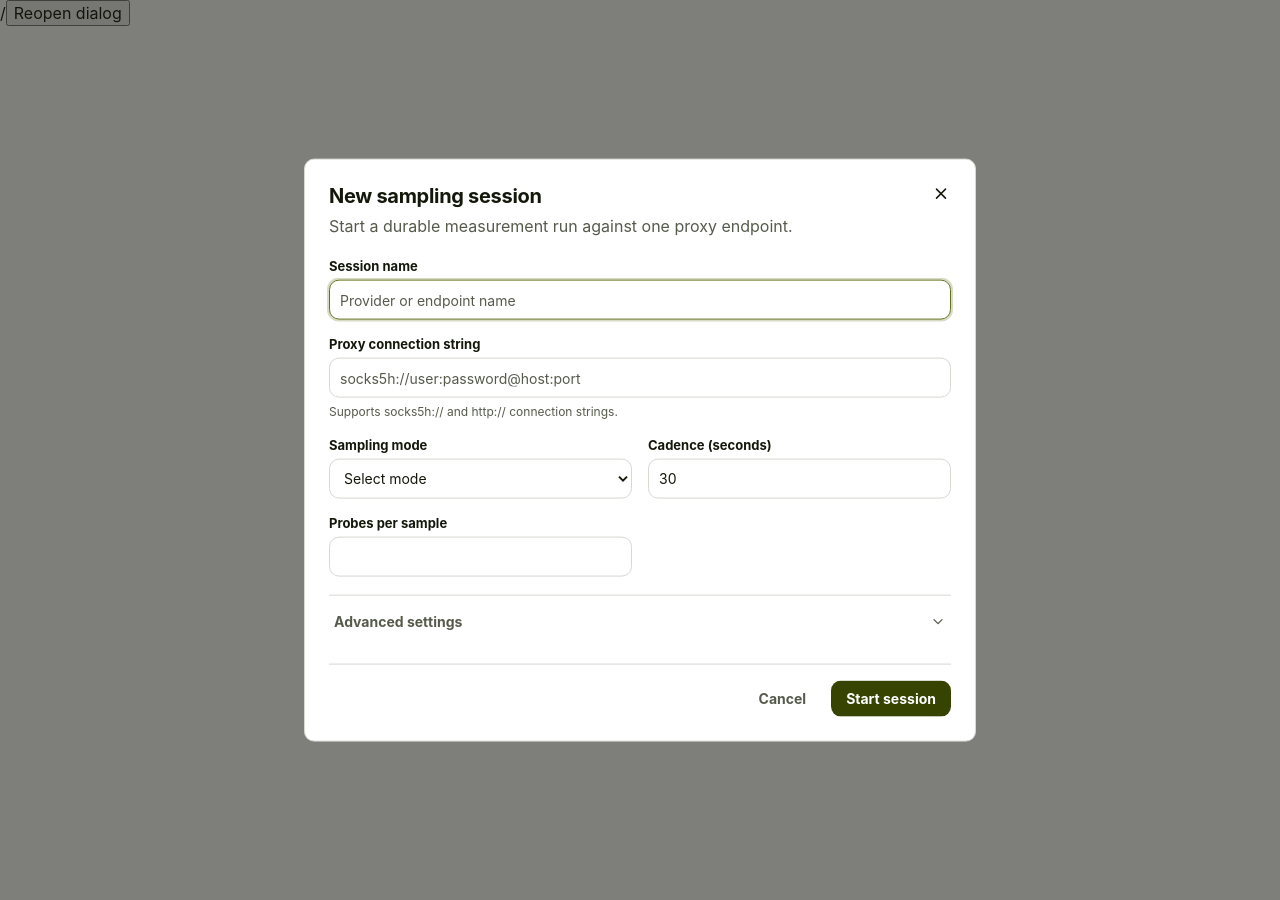
Test: NewSessionDialog › keeps server validation in the dialog without retaining or echoing the secret
In the field labelled "Session name": coordinates (640, 300) left=329, top=280, right=951, bottom=320, type "Provider evaluation"
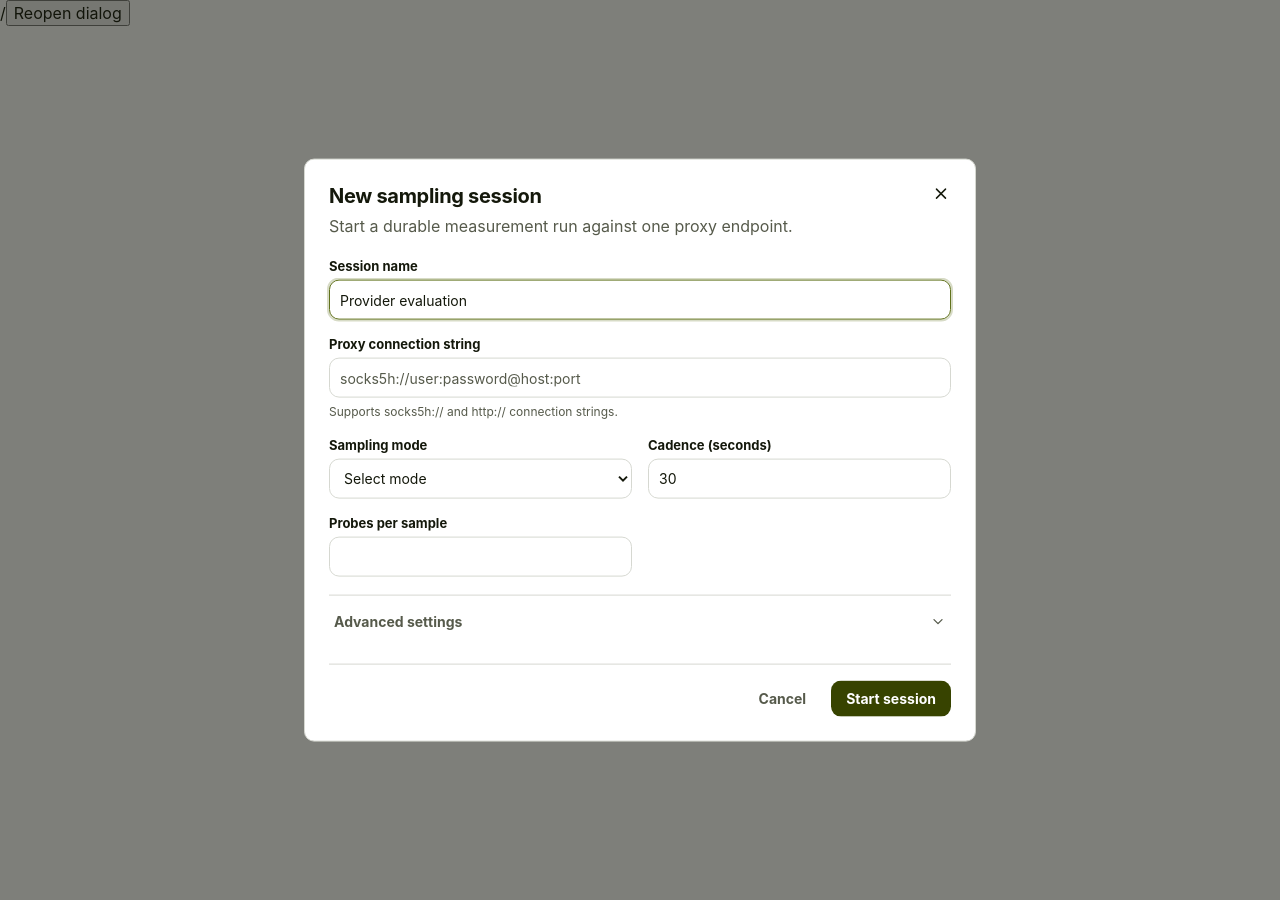
In the password field labelled "Proxy connection string": coordinates (640, 378) left=329, top=358, right=951, bottom=398, type "http://operator:hidden-password@proxy.example:8080"
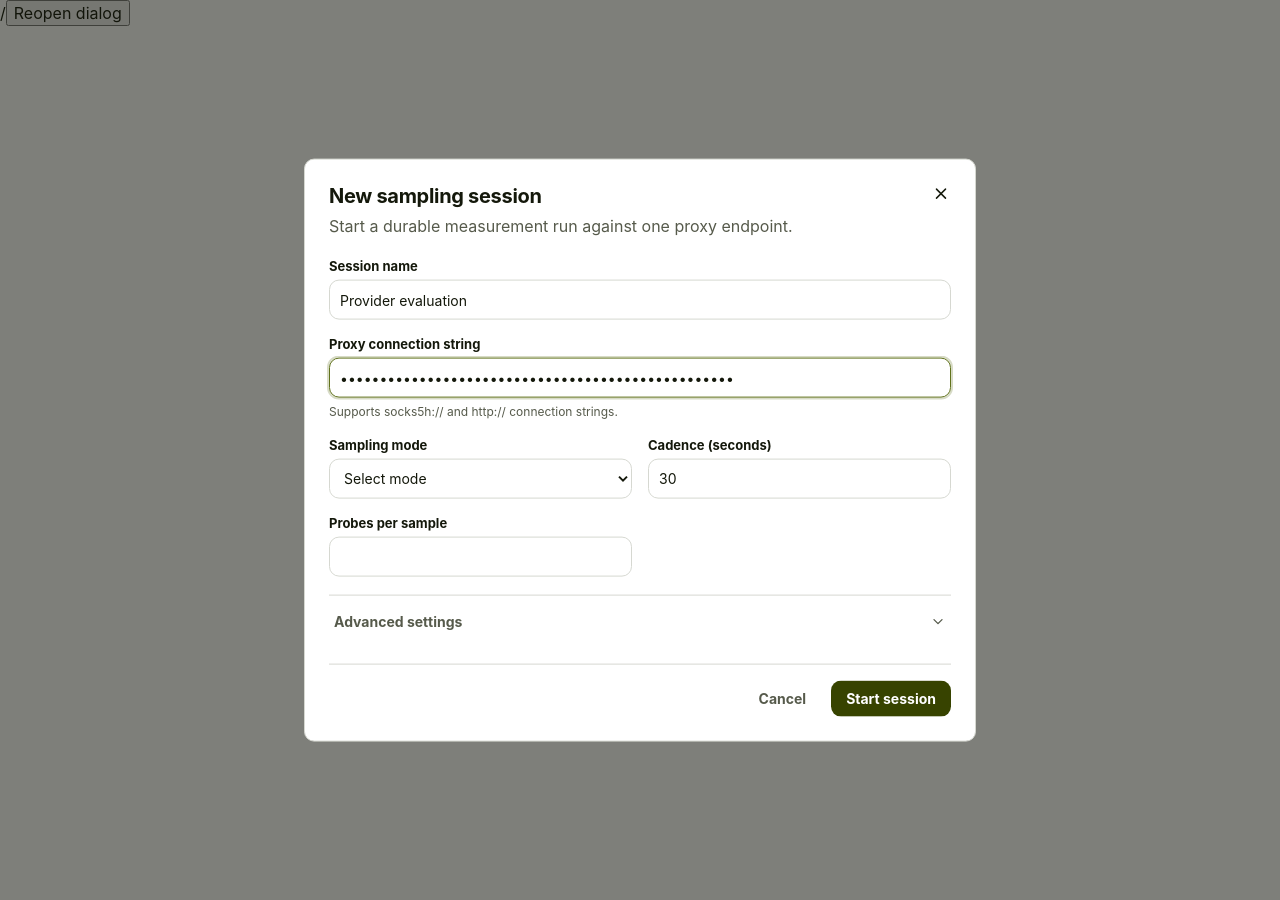
Select "Sticky" in the dropdown labelled "Sampling mode": coordinates (480, 478) left=329, top=458, right=632, bottom=498
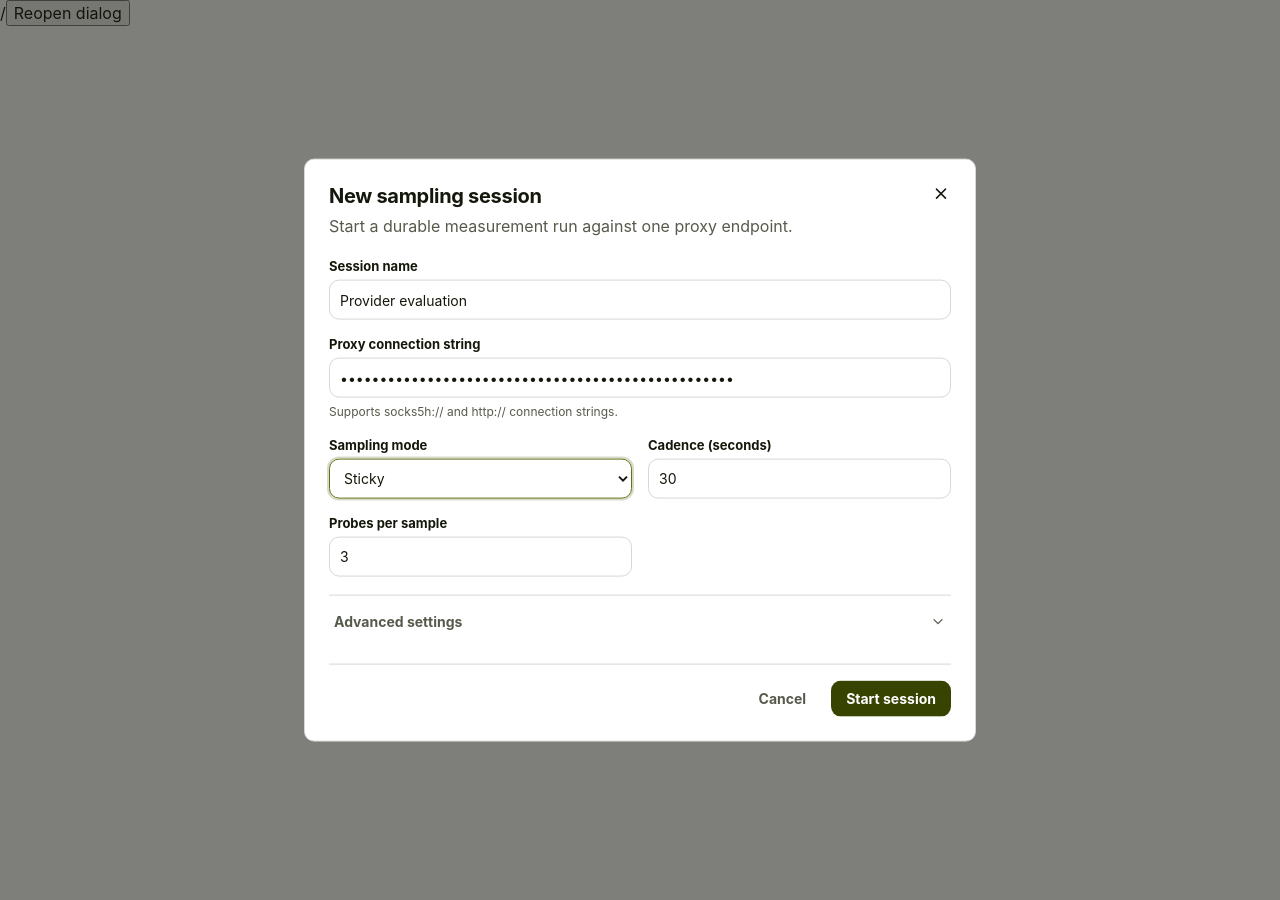
Click the button "Start session": coordinates (891, 698) left=831, top=680, right=951, bottom=716
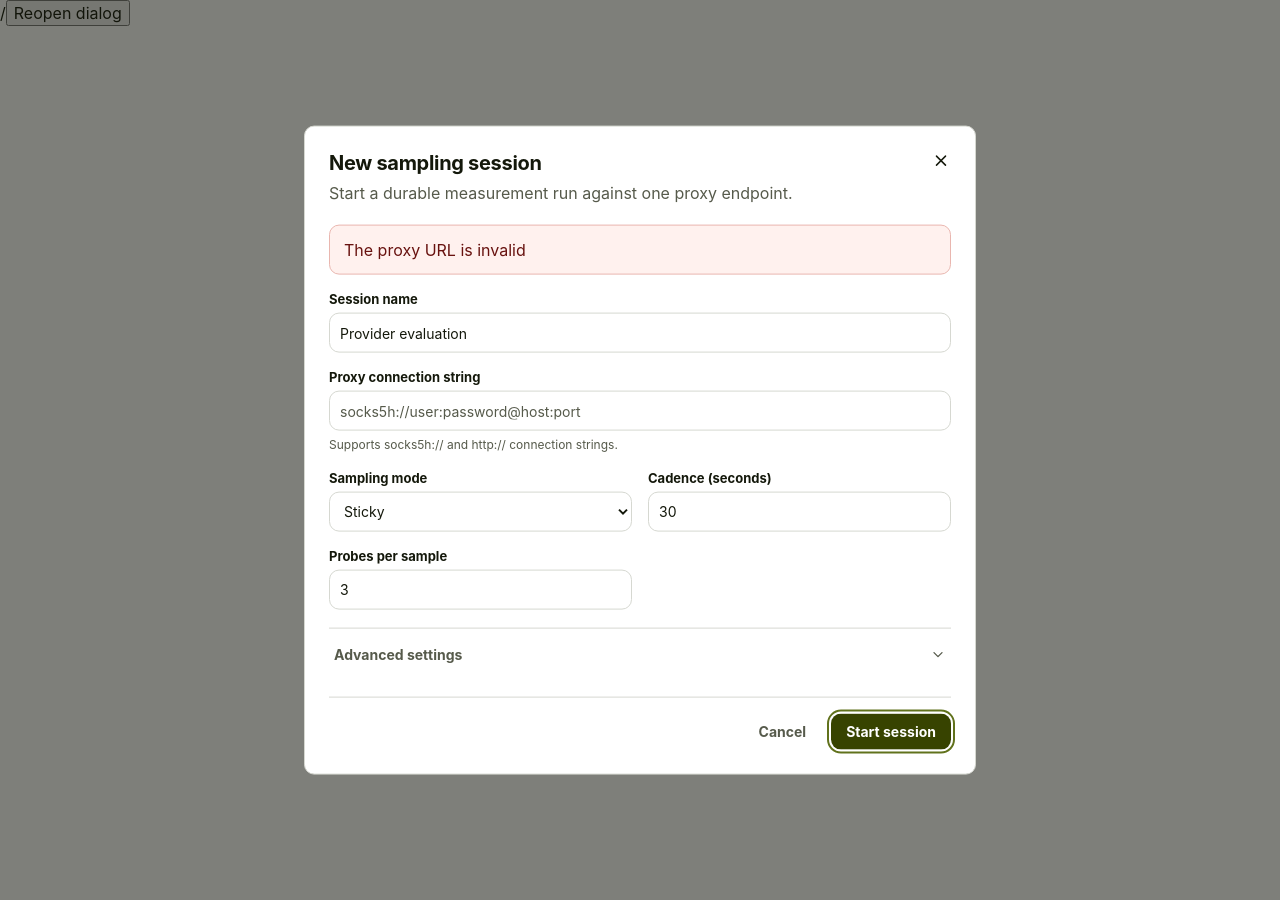
Check: the text with test id "location" reads "/", box left=0, top=3, right=6, bottom=23
Check: the dialog "New sampling session" shows "The proxy URL is invalid", box left=344, top=240, right=526, bottom=260
Check: the password field labelled "Proxy connection string" is empty, box left=329, top=391, right=951, bottom=431
